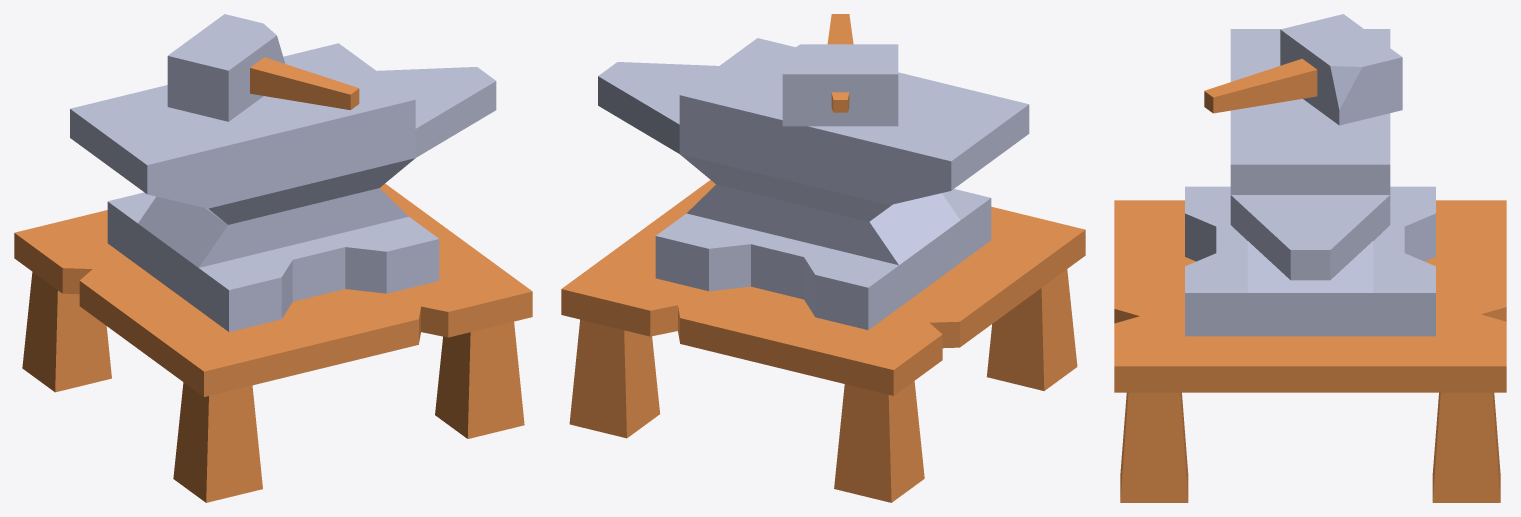
File: Workbench Anvil.glb
The picture shows the model from 3 angles, left to right: view 1: azimuth 30°, elevation 25°; view 2: azimuth 150°, elevation 25°; view 3: azimuth 270°, elevation 25°; orthographic projection. The views are drawn at different scales.
Visible parts, largest first — view 1: workbenchAnvil, hammer; view 2: workbenchAnvil, hammer; view 3: workbenchAnvil, hammer.
Part boxes in pixels (x1=…): workbenchAnvil: x1=14, y1=43, x2=532, y2=502; hammer: x1=167, y1=14, x2=359, y2=121; workbenchAnvil: x1=561, y1=38, x2=1085, y2=502; hammer: x1=782, y1=14, x2=898, y2=126; workbenchAnvil: x1=1114, y1=29, x2=1506, y2=502; hammer: x1=1204, y1=14, x2=1402, y2=125.
Bounding box in the file's own units: 0.3092 × 0.2745 × 0.2688.
